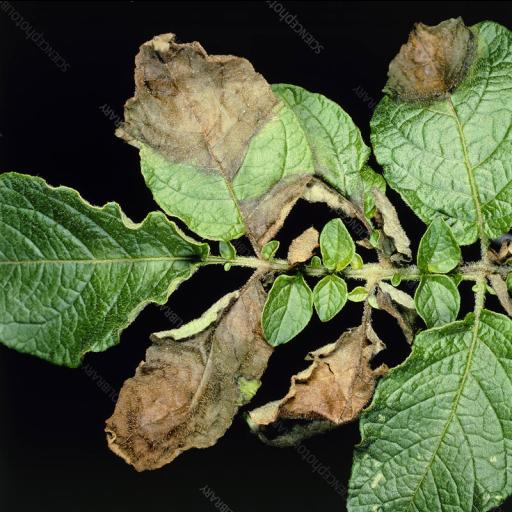disease_tomato: (122, 29, 296, 244), (103, 270, 276, 476), (366, 13, 512, 235), (240, 318, 388, 454)
